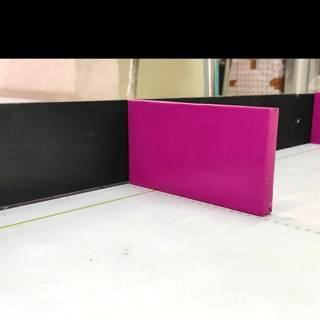xparking: (130, 108, 278, 205)
